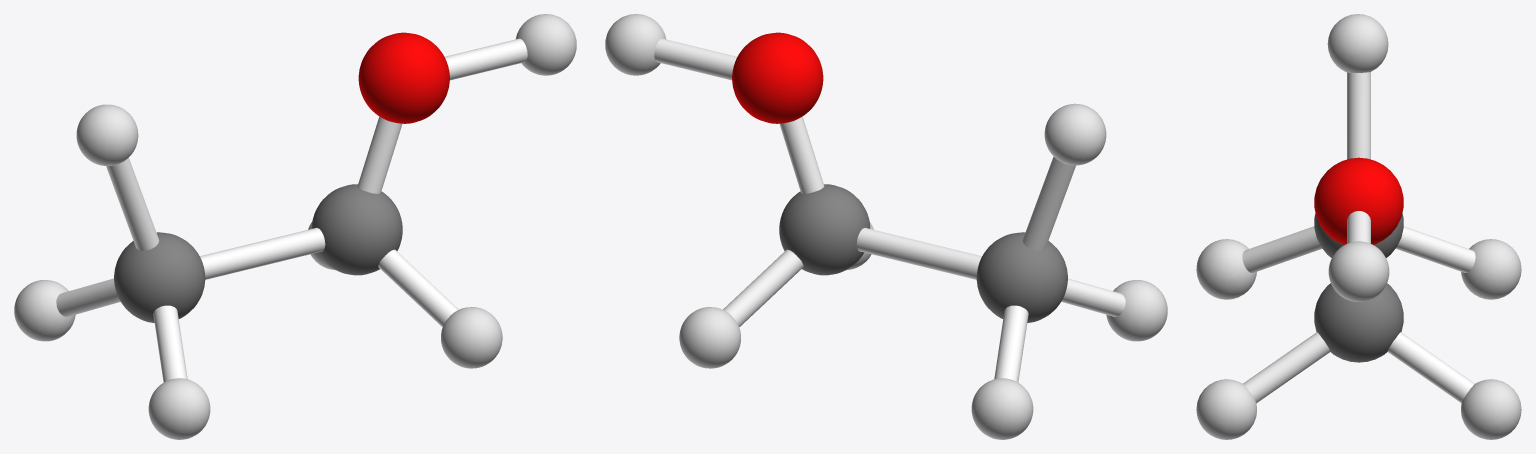
File: Ethanol.dae
The picture shows the model from 3 angles, left to right: view 1: azimuth 30°, elevation 25°; view 2: azimuth 150°, elevation 25°; view 3: azimuth 270°, elevation 25°; orthographic projection.
Visible parts, largest first — view 1: Ethanol_pSphere18, Ethanol_pSphere17, Ethanol_pSphere22, Ethanol_pCylinder16, Ethanol_pSphere20, Ethanol_pSphere23, Ethanol_pSphere15, Ethanol_pSphere19, Ethanol_pSphere21, Ethanol_pCylinder18, Ethanol_pCylinder14, Ethanol_pCylinder17 (+3 smaller); view 2: Ethanol_pSphere18, Ethanol_pSphere17, Ethanol_pSphere22, Ethanol_pCylinder16, Ethanol_pSphere21, Ethanol_pSphere23, Ethanol_pSphere16, Ethanol_pSphere19, Ethanol_pSphere20, Ethanol_pCylinder18, Ethanol_pCylinder15, Ethanol_pCylinder17 (+3 smaller); view 3: Ethanol_pSphere18, Ethanol_pSphere17, Ethanol_pSphere19, Ethanol_pSphere16, Ethanol_pSphere15, Ethanol_pSphere23, Ethanol_pSphere20, Ethanol_pSphere21, Ethanol_pCylinder14, Ethanol_pCylinder15, Ethanol_pCylinder18, Ethanol_pCylinder19 (+3 smaller).
Boxes of the visible parts, x1=… form: Ethanol_pSphere18: x1=358, y1=32, x2=449, y2=123; Ethanol_pSphere17: x1=311, y1=184, x2=402, y2=275; Ethanol_pSphere22: x1=114, y1=232, x2=205, y2=322; Ethanol_pCylinder16: x1=200, y1=227, x2=325, y2=279; Ethanol_pSphere20: x1=148, y1=378, x2=210, y2=439; Ethanol_pSphere23: x1=76, y1=104, x2=138, y2=165; Ethanol_pSphere15: x1=441, y1=307, x2=502, y2=368; Ethanol_pSphere19: x1=516, y1=14, x2=576, y2=75; Ethanol_pSphere21: x1=14, y1=280, x2=75, y2=341; Ethanol_pCylinder18: x1=106, y1=157, x2=159, y2=250; Ethanol_pCylinder14: x1=378, y1=249, x2=458, y2=326; Ethanol_pCylinder17: x1=445, y1=38, x2=527, y2=80; Ethanol_pSphere18: x1=732, y1=32, x2=823, y2=123; Ethanol_pSphere17: x1=779, y1=184, x2=870, y2=275; Ethanol_pSphere22: x1=976, y1=232, x2=1067, y2=322; Ethanol_pCylinder16: x1=856, y1=227, x2=981, y2=279; Ethanol_pSphere21: x1=971, y1=378, x2=1033, y2=439; Ethanol_pSphere23: x1=1044, y1=103, x2=1106, y2=165; Ethanol_pSphere16: x1=679, y1=307, x2=740, y2=368; Ethanol_pSphere19: x1=605, y1=14, x2=665, y2=75; Ethanol_pSphere20: x1=1106, y1=280, x2=1167, y2=341; Ethanol_pCylinder18: x1=1022, y1=156, x2=1075, y2=250; Ethanol_pCylinder15: x1=723, y1=249, x2=803, y2=326; Ethanol_pCylinder17: x1=654, y1=38, x2=736, y2=80; Ethanol_pSphere18: x1=1314, y1=157, x2=1403, y2=244; Ethanol_pSphere17: x1=1314, y1=283, x2=1403, y2=362; Ethanol_pSphere19: x1=1328, y1=241, x2=1389, y2=301; Ethanol_pSphere16: x1=1461, y1=379, x2=1521, y2=439; Ethanol_pSphere15: x1=1196, y1=379, x2=1256, y2=439; Ethanol_pSphere23: x1=1327, y1=14, x2=1388, y2=72; Ethanol_pSphere20: x1=1196, y1=239, x2=1256, y2=299; Ethanol_pSphere21: x1=1461, y1=239, x2=1521, y2=299; Ethanol_pCylinder14: x1=1243, y1=332, x2=1330, y2=403; Ethanol_pCylinder15: x1=1387, y1=332, x2=1474, y2=403; Ethanol_pCylinder18: x1=1347, y1=72, x2=1370, y2=159; Ethanol_pCylinder19: x1=1242, y1=226, x2=1322, y2=272.
Bounding box in the file's own units: 1.69 × 0.9831 × 0.9251.
